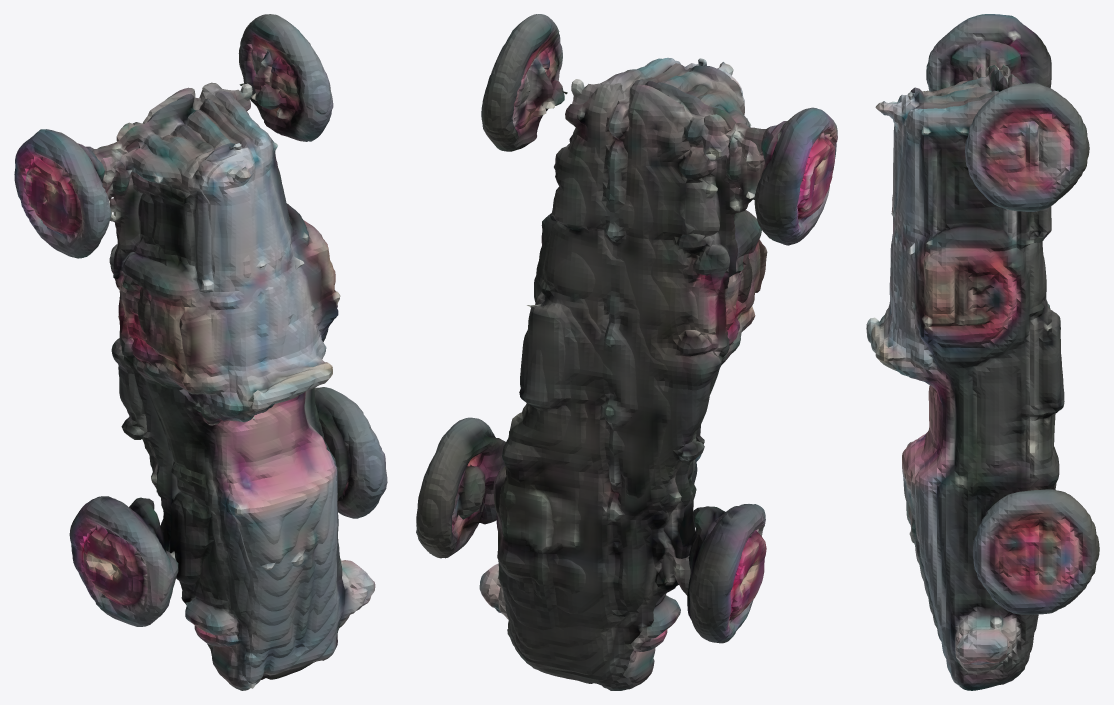
The model's file is 000012_antique car_automobile_amilcar.glb.
3 views of the same model, side by side, from view 1: azimuth 30°, elevation 25°; view 2: azimuth 150°, elevation 25°; view 3: azimuth 270°, elevation 25° (orthographic). The views are drawn at different scales.
Parts seen in each view (by area): view 1: world; view 2: world; view 3: world.
Part boxes in pixels (bbox=[...]): world: bbox=[14, 14, 387, 690]; world: bbox=[416, 14, 837, 690]; world: bbox=[866, 14, 1099, 690].
Size of the model in its own units: 0.5917 by 1.03 by 0.3595.
